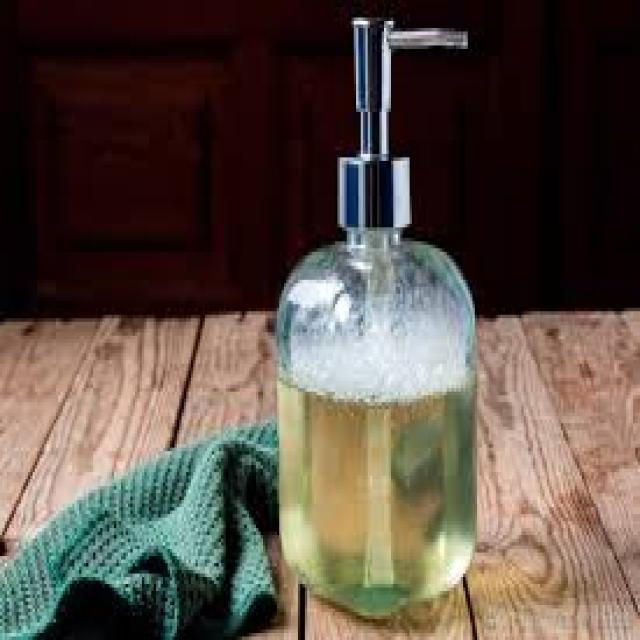liquid soap: (278, 22, 492, 612)
